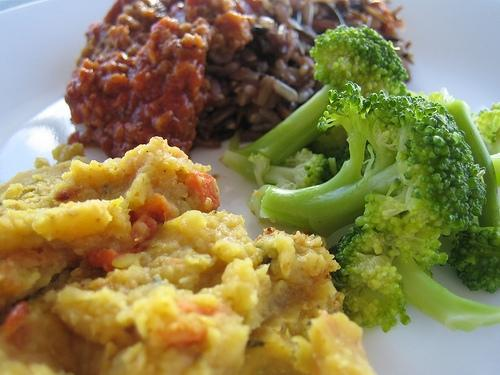broccoli: (260, 81, 486, 246), (228, 24, 412, 166), (328, 223, 500, 333), (428, 87, 500, 227), (218, 147, 334, 190), (447, 223, 500, 293), (470, 102, 500, 155)
